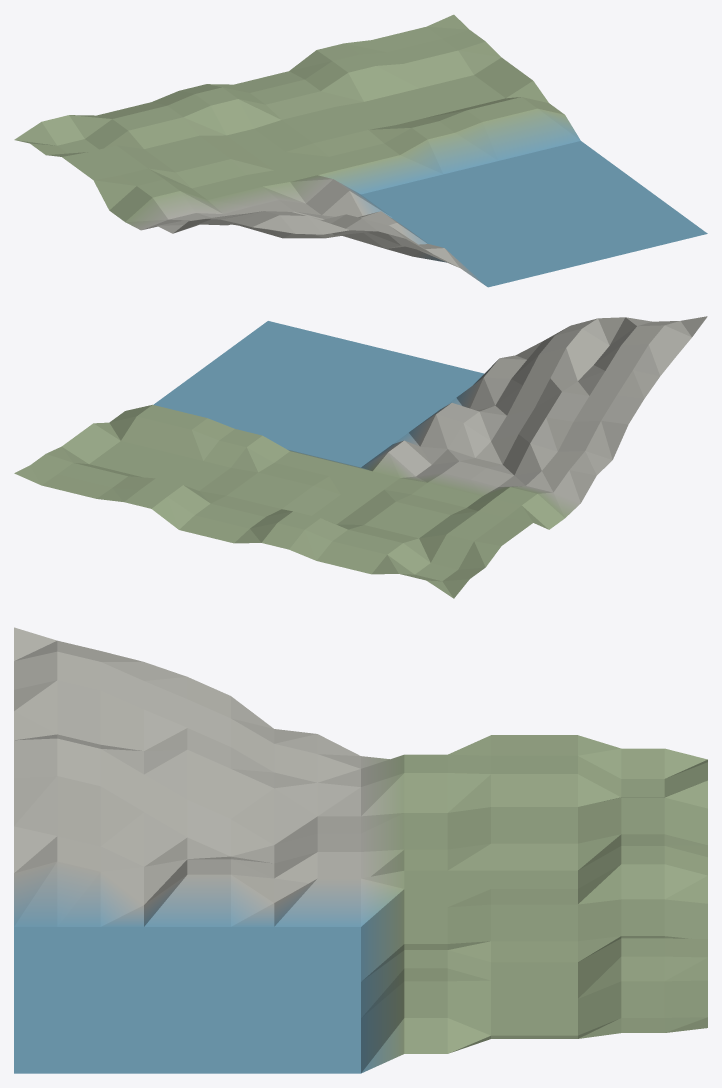
3 renders of one model, top to bottom at view 1: azimuth 30°, elevation 25°; view 2: azimuth 150°, elevation 25°; view 3: azimuth 270°, elevation 25°, orthographic. The views are drawn at different scales.
Size of the model in its own units: 32 by 7.78 by 32.
